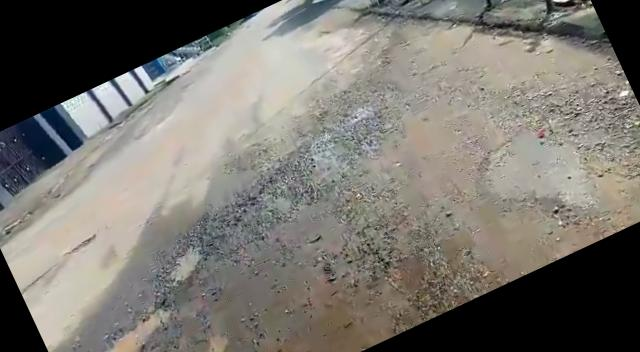pothole: (162, 240, 212, 284)
